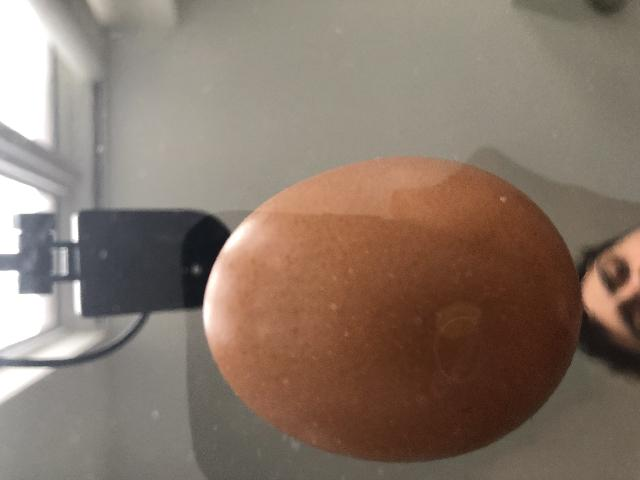Sano: (200, 153, 584, 463)
